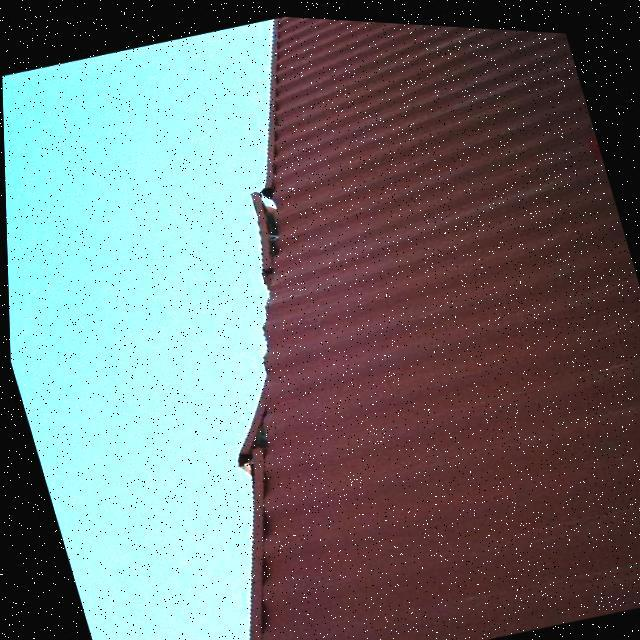dent: (216, 152, 320, 566)
